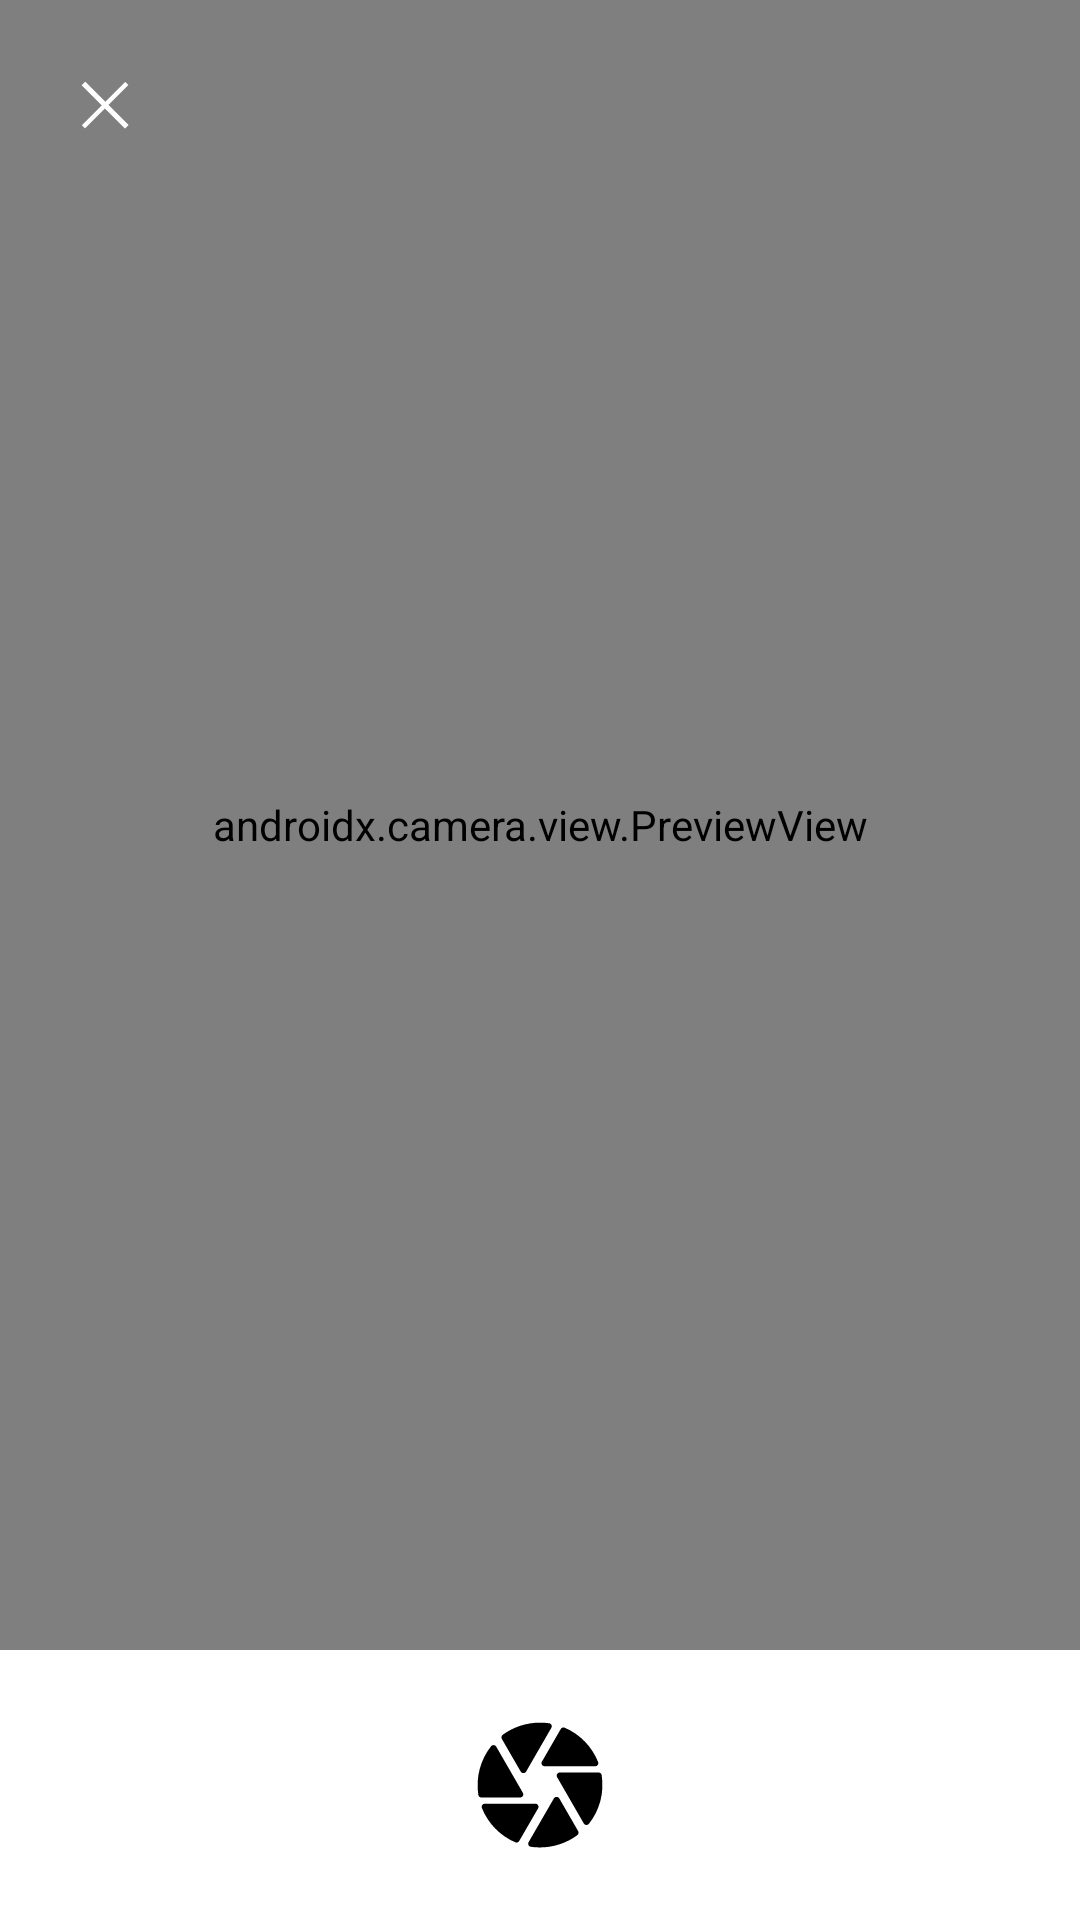

Icons on this 1080px x 1920px Android screen, each with the point to tap as [x,y]:
shutter: [540,1785]
